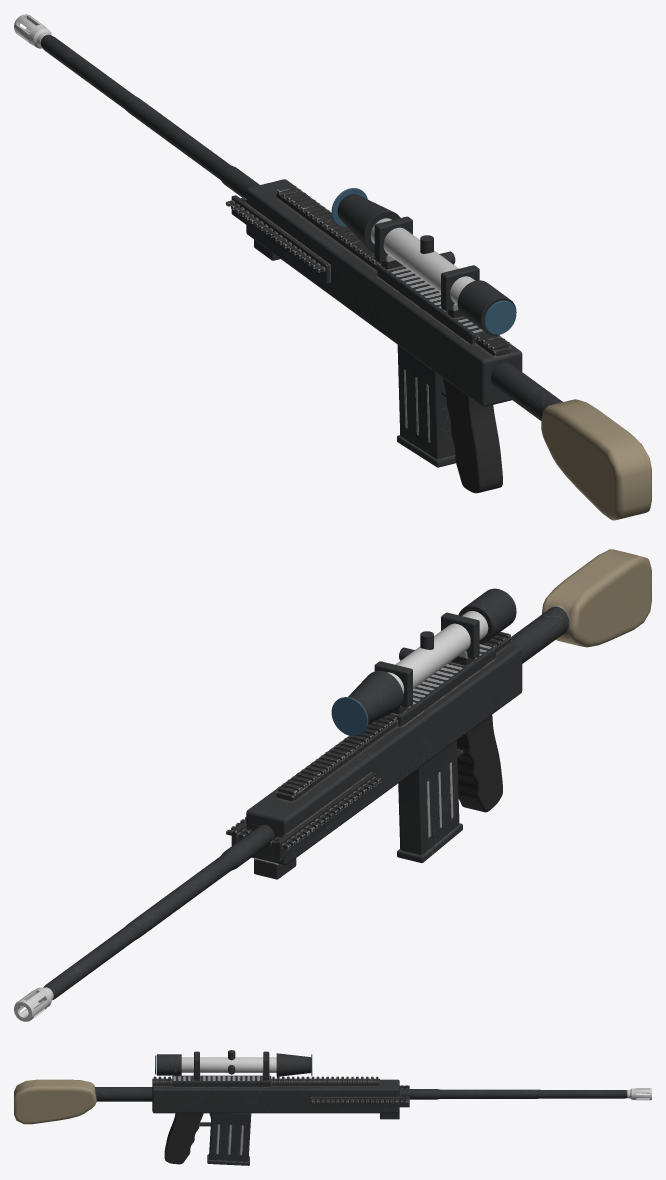
The model's file is m14ebr.gltf.
3 views of the same model, one above another, from view 1: azimuth 30°, elevation 25°; view 2: azimuth 150°, elevation 25°; view 3: azimuth 270°, elevation 25° (orthographic). The views are drawn at different scales.
Visible parts, largest first — view 1: Frame, Stock, Mag_body, ScopeTube, ScopeLensR, FlashHider; view 2: Frame, Stock, Mag_body, ScopeTube, ScopeLensF, FlashHider; view 3: Frame, Stock, Mag_body, ScopeTube, FlashHider.
Boxes of the visible parts, x1,y1,x2,y2 form: Frame: [40, 35, 522, 493]; Stock: [491, 362, 651, 520]; Mag_body: [397, 345, 455, 467]; ScopeTube: [370, 218, 475, 304]; ScopeLensR: [484, 300, 516, 334]; FlashHider: [14, 14, 51, 48]; Frame: [43, 588, 522, 999]; Stock: [509, 549, 651, 663]; Mag_body: [397, 740, 462, 862]; ScopeTube: [387, 611, 488, 693]; ScopeLensF: [331, 697, 368, 736]; FlashHider: [14, 987, 53, 1021]; Frame: [152, 1050, 627, 1164]; Stock: [14, 1079, 152, 1124]; Mag_body: [207, 1113, 251, 1165]; ScopeTube: [181, 1057, 276, 1072]; FlashHider: [627, 1088, 651, 1100].
Bounding box in the file's own units: 0.076 × 0.2484 × 1.29.
